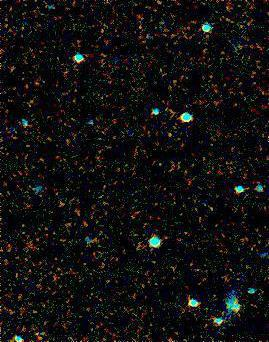star: (155, 119, 185, 149)
